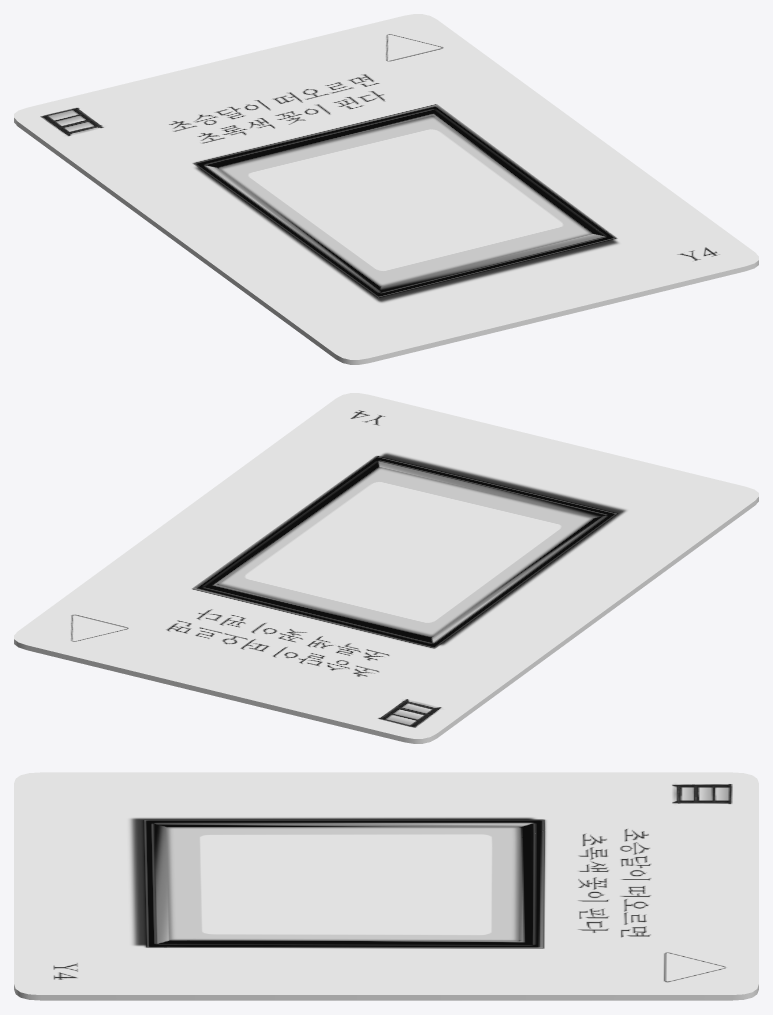
File: BookshelfHint.fbx
3 renders of one model, top to bottom at view 1: azimuth 30°, elevation 25°; view 2: azimuth 150°, elevation 25°; view 3: azimuth 270°, elevation 25°, orthographic. The views are drawn at different scales.
Visible parts, largest first — view 1: Plane007; view 2: Plane007; view 3: Plane007.
Part boxes in pixels (x1,y1,x2,y2): Plane007: (14, 14, 758, 364); Plane007: (14, 393, 758, 743); Plane007: (14, 772, 758, 1000).
Bounding box in the file's own units: 87.49 × 1 × 124.
